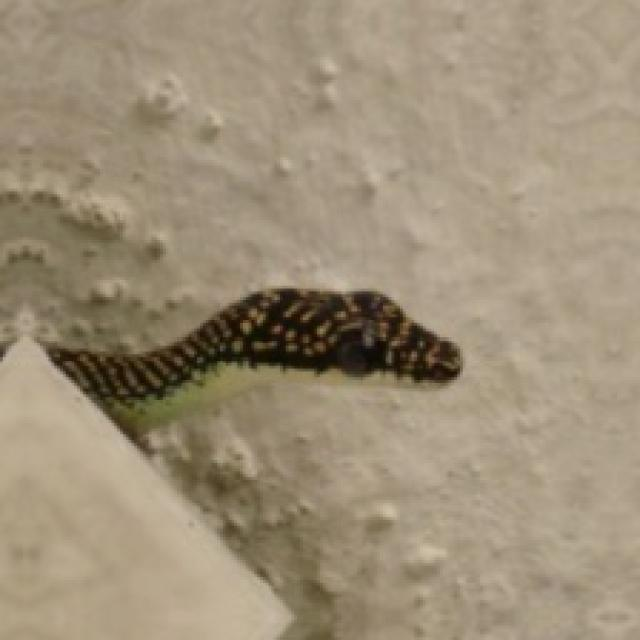paradise tree snake: (49, 289, 460, 397)
